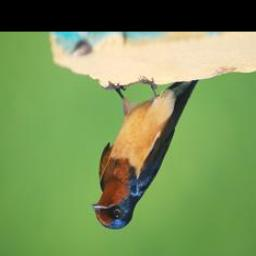Swallow: (91, 75, 200, 232)
